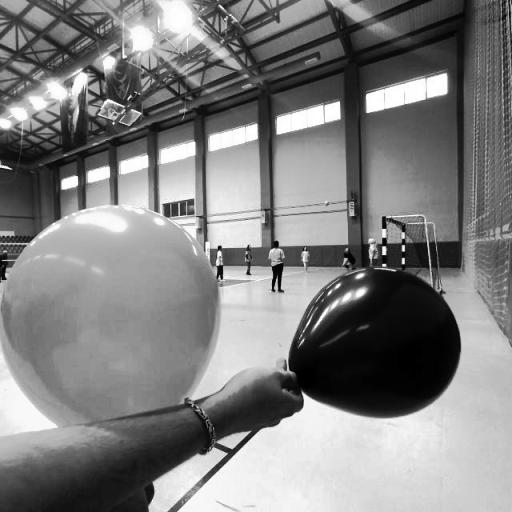balloon: (0, 204, 221, 430), (290, 268, 462, 418)
